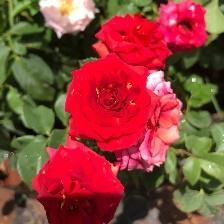rose: (64, 54, 159, 155), (37, 139, 122, 224), (99, 8, 171, 74), (160, 1, 210, 50), (40, 1, 97, 40)
